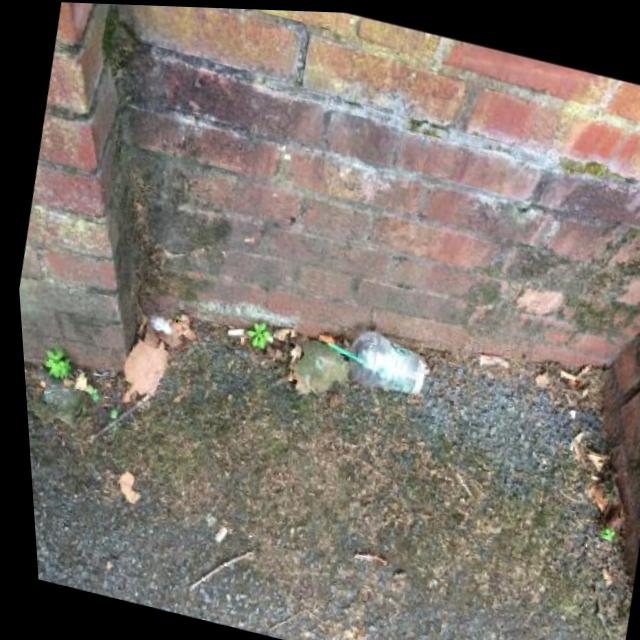plastic: (317, 317, 433, 402)
